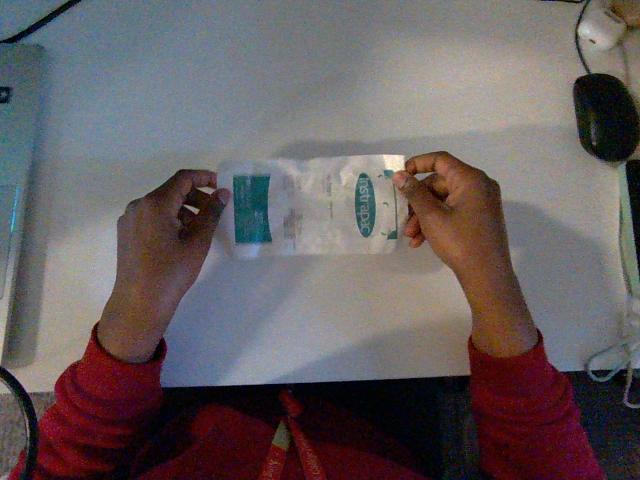gallipot: (217, 155, 407, 257)
